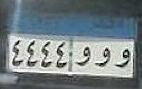4: (40, 40, 53, 70), (55, 41, 68, 69), (10, 39, 23, 67), (27, 39, 38, 69)
waw: (75, 45, 93, 68), (115, 46, 133, 68), (94, 46, 111, 68)
